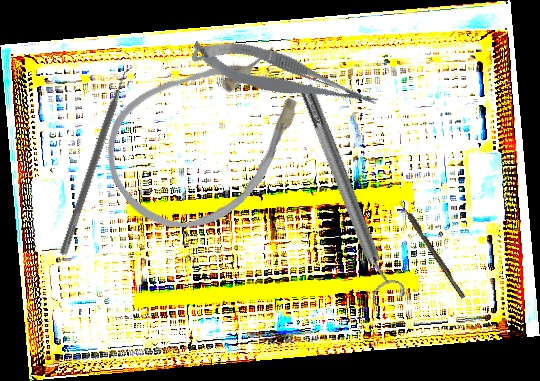Cannula: (81, 15, 337, 258)
Fixation Ring: (289, 79, 408, 308)
Hook Surgical: (398, 199, 466, 300)
Micro Scissor: (187, 22, 382, 133)
Spatula Surgical: (59, 60, 138, 259)
